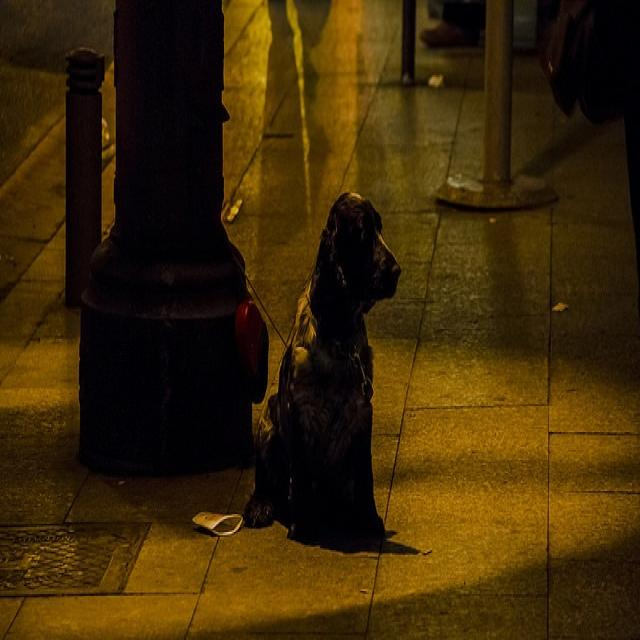Dog: (273, 177, 424, 588)
